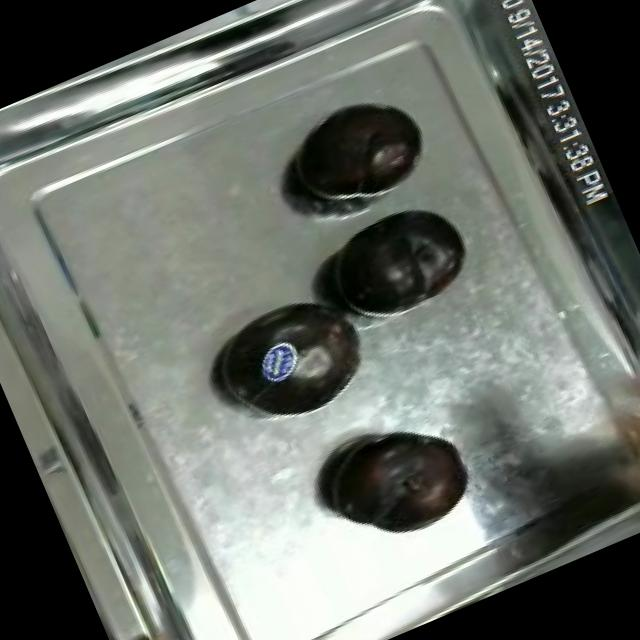Fruit: (191, 270, 388, 448), (306, 400, 487, 562), (310, 187, 482, 336), (273, 80, 436, 222), (110, 615, 221, 640)
